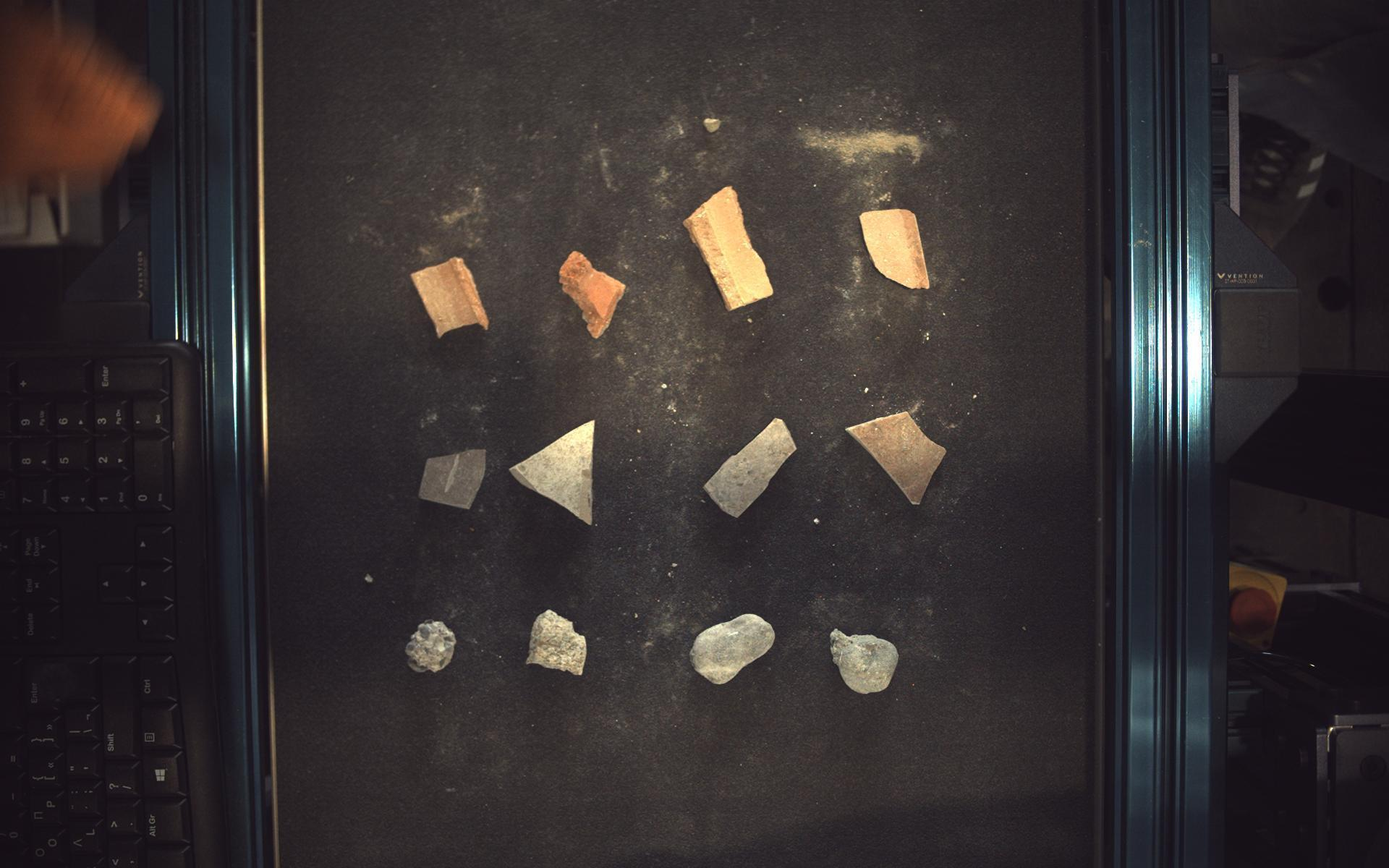brick: (685, 186, 775, 310), (411, 257, 489, 336), (560, 251, 626, 338), (862, 208, 932, 289)
concrete: (691, 615, 776, 686), (831, 630, 900, 694), (527, 610, 587, 677), (405, 622, 456, 673)
tile: (848, 412, 948, 506), (705, 418, 797, 518), (509, 420, 595, 525), (419, 450, 486, 509)
